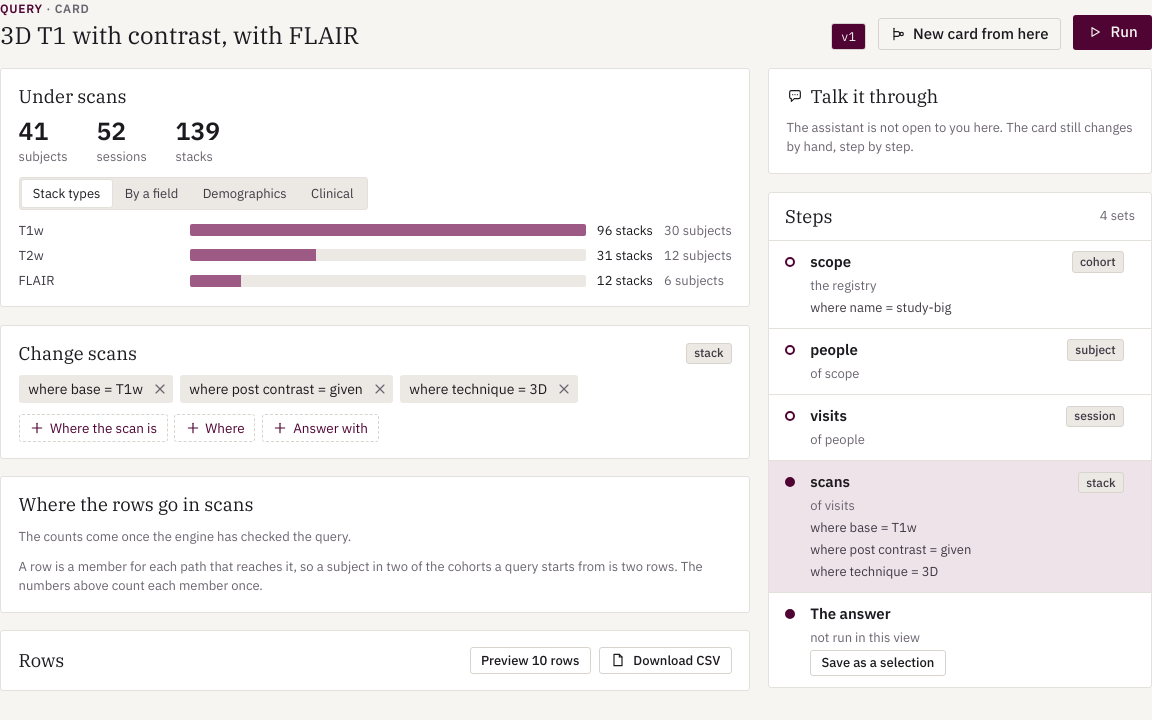
Test: the Query page card, its list held back at plain (record 55 K7, small lists) › makes no file of the held list, reads no page, and says so without a warning
The width and height of the screenshot is (1152, 720).
Click the button "Download CSV". click: (665, 660)
box: [599,647,732,674]
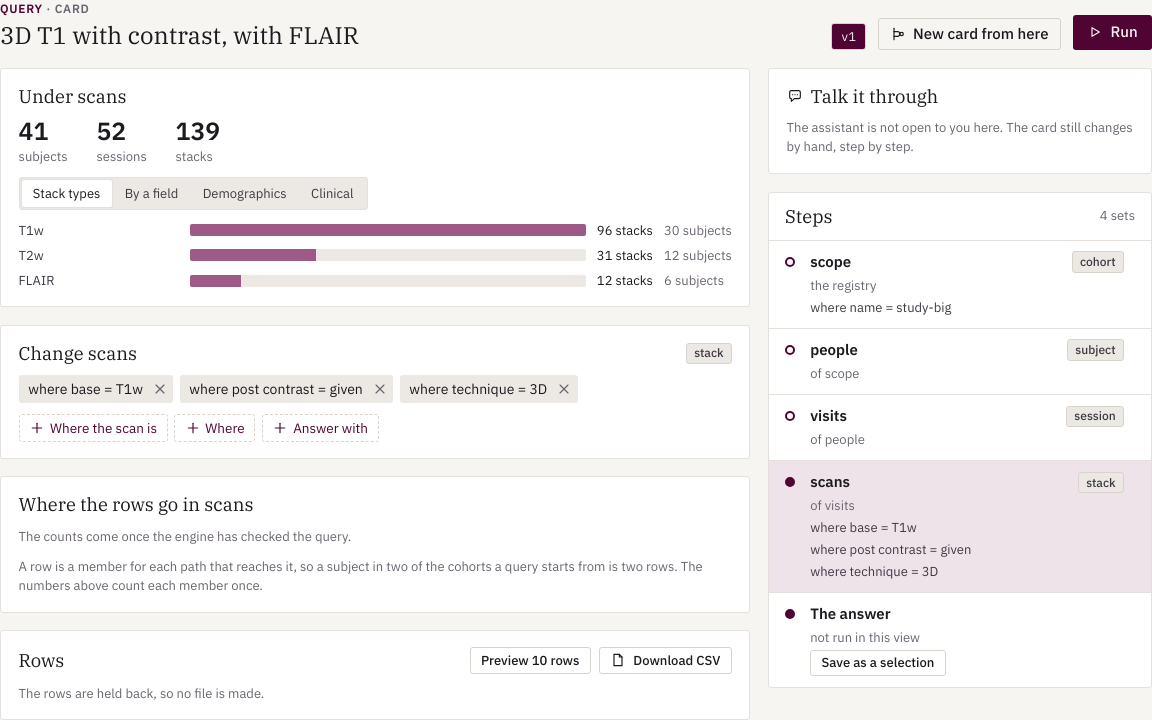
Expected: the text with class "meta" reads "The rows are held back, so no file is made.", [19,685,264,702]
